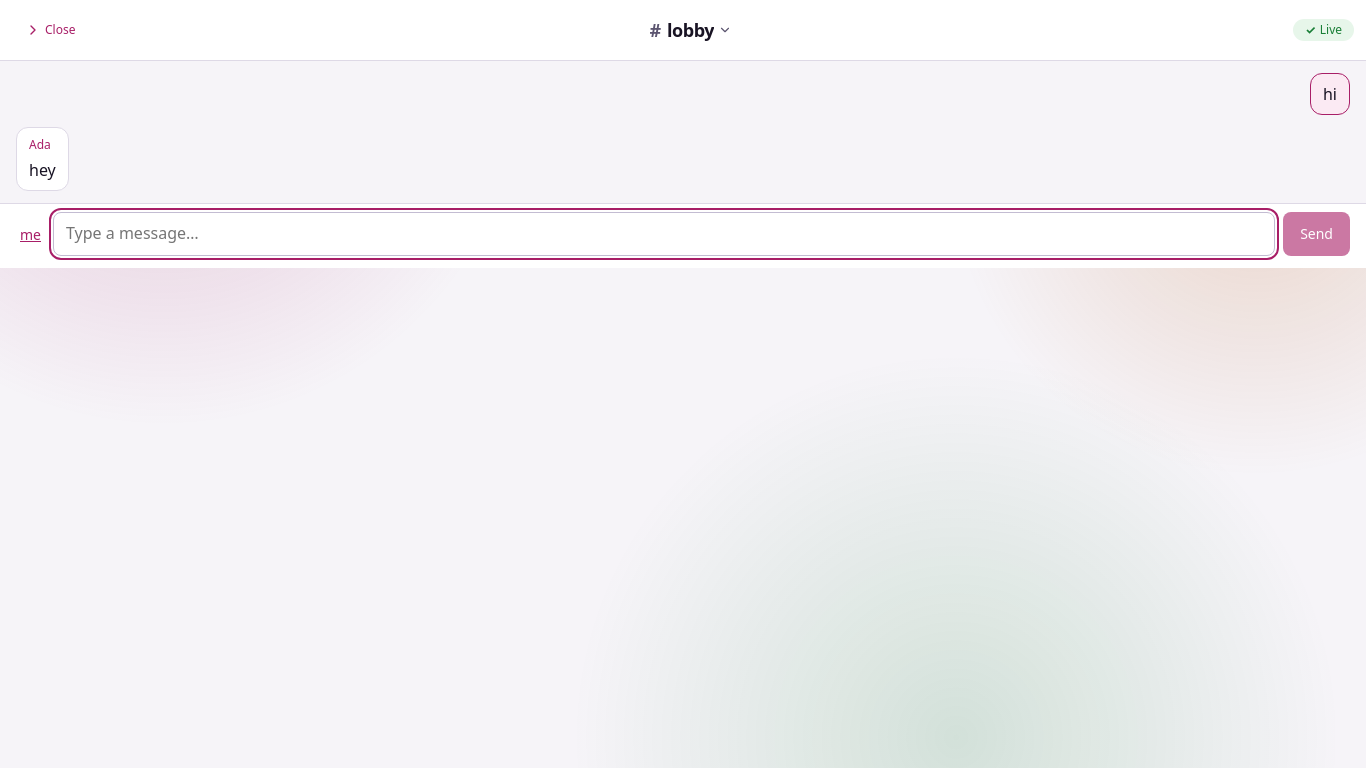
Test: ChatScreen › renders messages, distinguishing own vs. others' and offering mute for others
The image size is (1366, 768).
Expected: the text "hi" is shown, [1323,82,1337,106]
Expected: the text "Ada" is shown, [29,136,51,153]
Click the text "hey" at (42, 170), box [29,158,56,182]
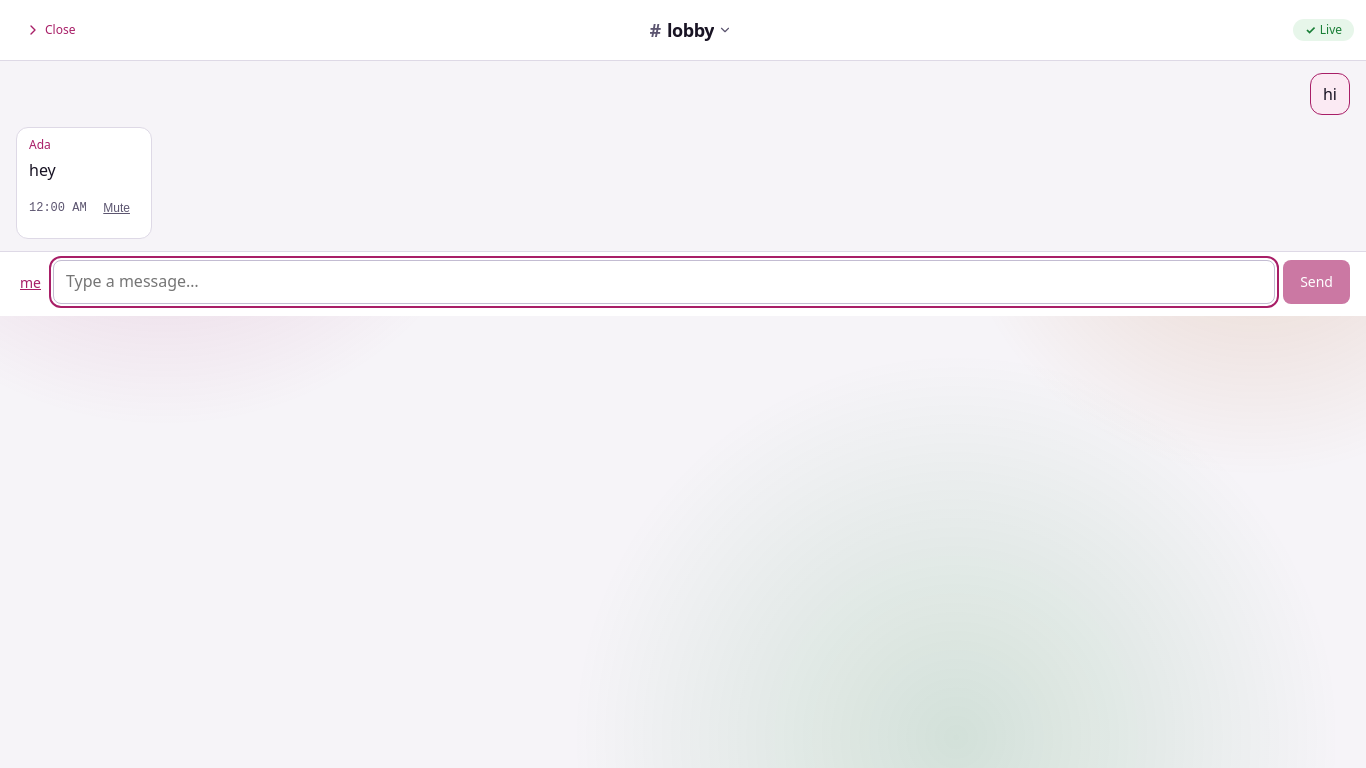
Expected: the button with aria-label "Mute Ada" is shown, [95,186,139,230]
